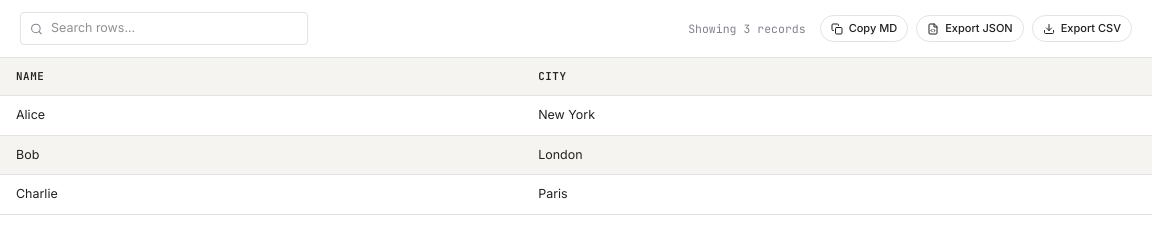
ResultsTable Component › filters rows based on search input
The image size is (1152, 232).
Type "London" into the field named "search result rows".
click(164, 29); type("London")  # box [20,12,308,46]
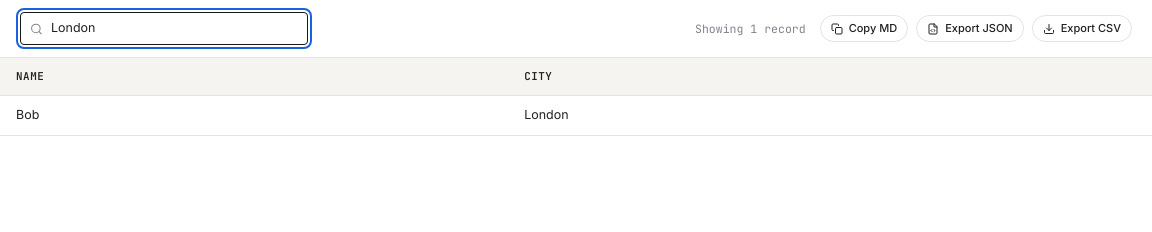
Now the text "Bob" is shown, box [0,95,508,135]
Now the text "Alice" is gone
Now the text "Charlie" is gone
